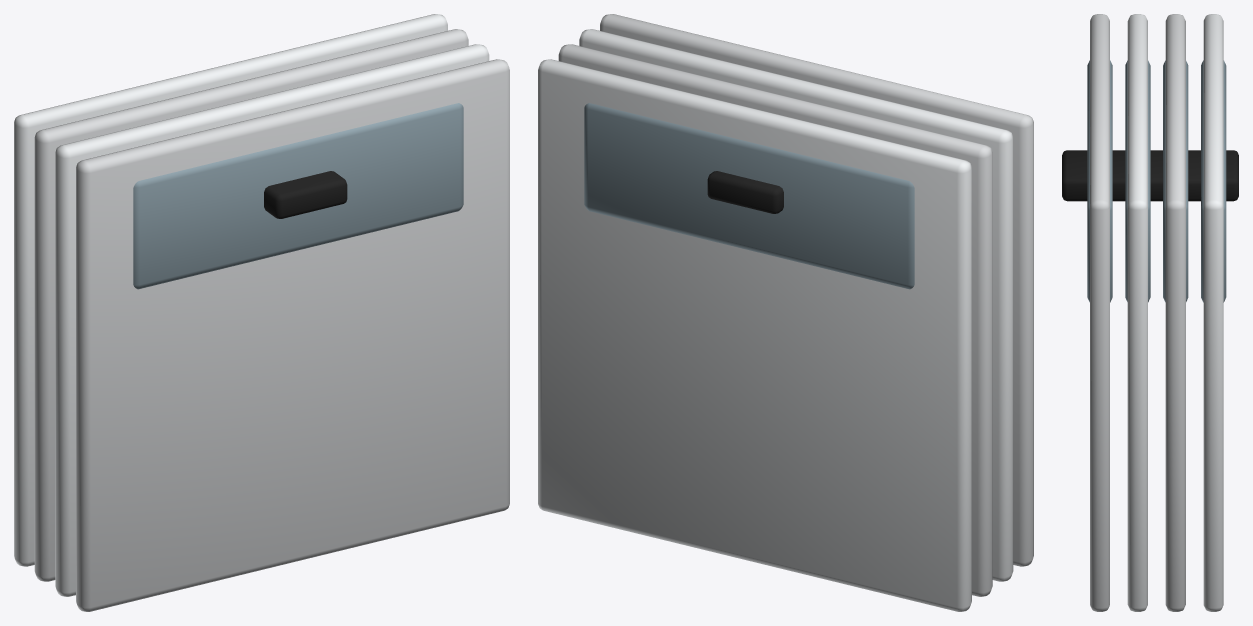
The model's file is folding_chairs.fbx.
3 views of the same model, side by side, from view 1: azimuth 30°, elevation 25°; view 2: azimuth 150°, elevation 25°; view 3: azimuth 270°, elevation 25° (orthographic). The views are drawn at different scales.
Visible parts, largest first — view 1: Folding Chairs; view 2: Folding Chairs; view 3: Folding Chairs.
Part boxes in pixels (x1,y1,x2,y2): Folding Chairs: (14, 14, 509, 611); Folding Chairs: (538, 14, 1033, 611); Folding Chairs: (1062, 14, 1238, 611).
Size of the model in its own units: 1.8 by 1.8 by 0.7.
